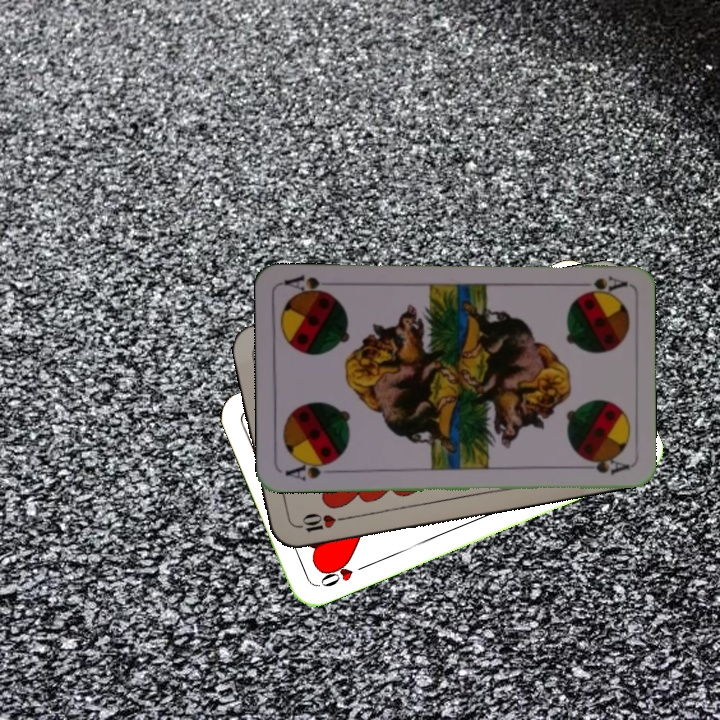H10: (290, 509, 349, 535)
HO: (315, 556, 371, 590)
SA: (281, 457, 340, 484), (570, 272, 629, 296)
